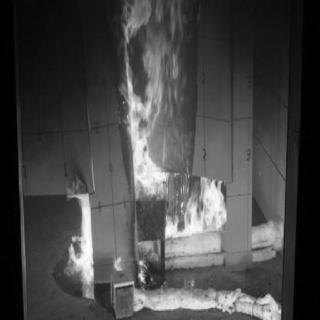Fire: (106, 0, 243, 292), (56, 143, 107, 303)
